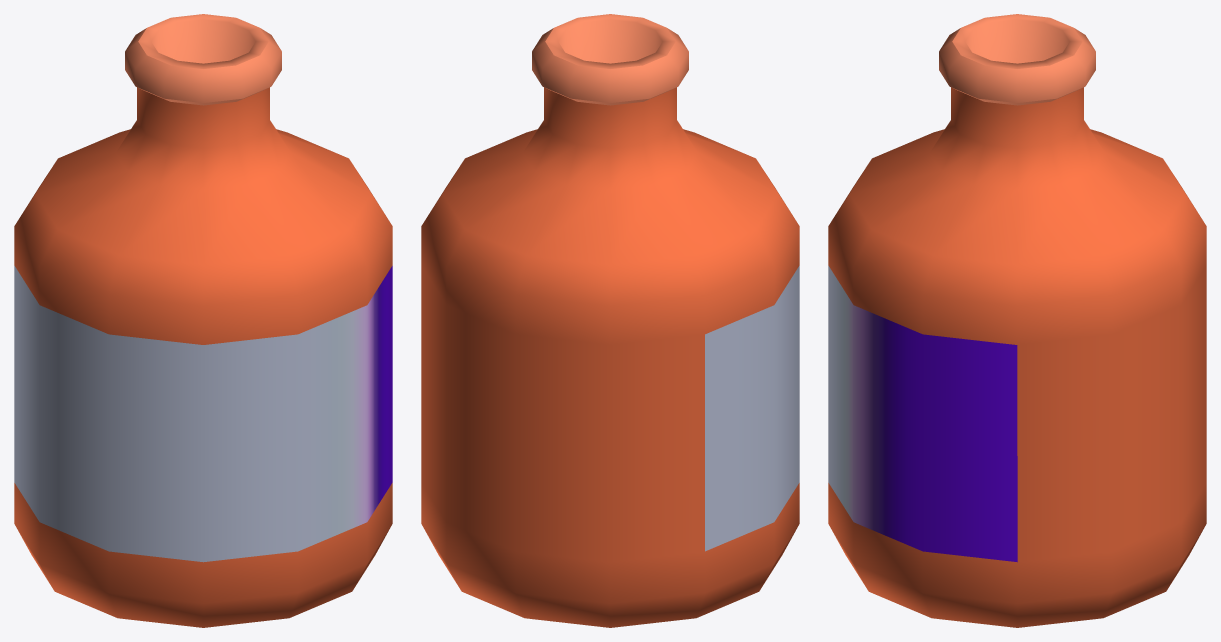
Rendered from Bottle02.fbx.
3 renders of one model, left to right at view 1: azimuth 30°, elevation 25°; view 2: azimuth 150°, elevation 25°; view 3: azimuth 270°, elevation 25°, orthographic.
Visible parts, largest first — view 1: Bottle02; view 2: Bottle02; view 3: Bottle02.
Part boxes in pixels (x1,y1,x2,y2): Bottle02: (14,14,392,627); Bottle02: (421,14,799,627); Bottle02: (828,14,1206,627).
Size of the model in its own units: 11.92 by 11.92 by 18.39.
